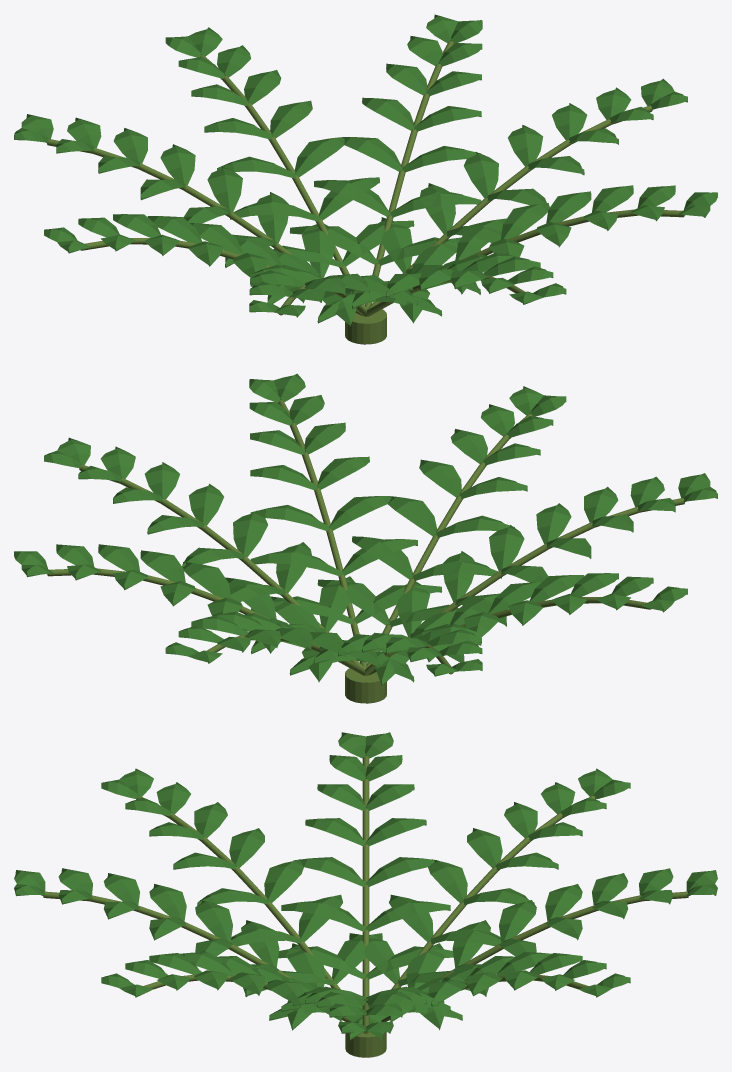
The picture shows the model from 3 angles, top to bottom: view 1: azimuth 30°, elevation 25°; view 2: azimuth 150°, elevation 25°; view 3: azimuth 270°, elevation 25°; orthographic projection. The views are drawn at different scales.
Visible parts, largest first — view 1: FERN_Core, FERN_Pinna.006, FERN_Pinna.047, FERN_Pinna.033, FERN_Pinna.104, FERN_Pinna.018, FERN_Pinna.002, FERN_Pinna.020, FERN_Pinna.004, FERN_Pinna.008, FERN_Pinna.049, FERN_Pinna.035 (+49 smaller); view 2: FERN_Core, FERN_Pinna.005, FERN_Pinna.076, FERN_Pinna.090, FERN_Pinna.088, FERN_Pinna.019, FERN_Pinna.103, FERN_Pinna.007, FERN_Pinna.072, FERN_Pinna.074, FERN_Pinna.078, FERN_Pinna.086 (+49 smaller); view 3: FERN_Pinna.075, FERN_Pinna.048, FERN_Pinna.034, FERN_Pinna.089, FERN_Pinna.046, FERN_Pinna.044, FERN_Pinna.077, FERN_Pinna.050, FERN_Pinna.060, FERN_Core, FERN_Pinna.061, FERN_Pinna.036 (+46 smaller).
Boxes of the visible parts, box(x1,y1,x2,y2) form: FERN_Core: box(345, 309, 386, 344); FERN_Pinna.006: box(464, 152, 498, 198); FERN_Pinna.047: box(207, 166, 242, 211); FERN_Pinna.033: box(294, 137, 344, 177); FERN_Pinna.104: box(500, 203, 548, 239); FERN_Pinna.018: box(314, 180, 390, 216); FERN_Pinna.002: box(378, 217, 412, 272); FERN_Pinna.020: box(342, 137, 402, 171); FERN_Pinna.004: box(419, 183, 455, 233); FERN_Pinna.008: box(508, 125, 543, 166); FERN_Pinna.049: box(160, 144, 195, 185); FERN_Pinna.035: box(270, 100, 312, 138); FERN_Core: box(345, 668, 386, 703); FERN_Pinna.005: box(233, 510, 267, 557); FERN_Pinna.076: box(489, 525, 524, 570); FERN_Pinna.090: box(388, 496, 437, 536); FERN_Pinna.088: box(352, 536, 412, 579); FERN_Pinna.019: box(183, 562, 231, 598); FERN_Pinna.103: box(329, 496, 391, 530); FERN_Pinna.007: box(188, 483, 223, 525); FERN_Pinna.072: box(396, 581, 430, 635); FERN_Pinna.074: box(441, 551, 474, 602); FERN_Pinna.078: box(536, 503, 571, 544); FERN_Pinna.086: box(317, 579, 389, 625); FERN_Pinna.075: box(264, 859, 303, 902); FERN_Pinna.048: box(428, 859, 467, 902); FERN_Pinna.034: box(499, 900, 536, 942); FERN_Pinna.089: box(195, 900, 232, 942); FERN_Pinna.046: box(389, 894, 433, 941); FERN_Pinna.044: box(349, 933, 399, 983); FERN_Pinna.077: box(229, 828, 264, 867); FERN_Pinna.050: box(467, 828, 502, 867); FERN_Pinna.060: box(281, 900, 365, 931); FERN_Core: box(345, 1032, 386, 1057); FERN_Pinna.061: box(366, 857, 438, 886); FERN_Pinna.036: box(545, 884, 582, 921).
Size of the model in its own units: 1.53 by 0.4074 by 1.53.
